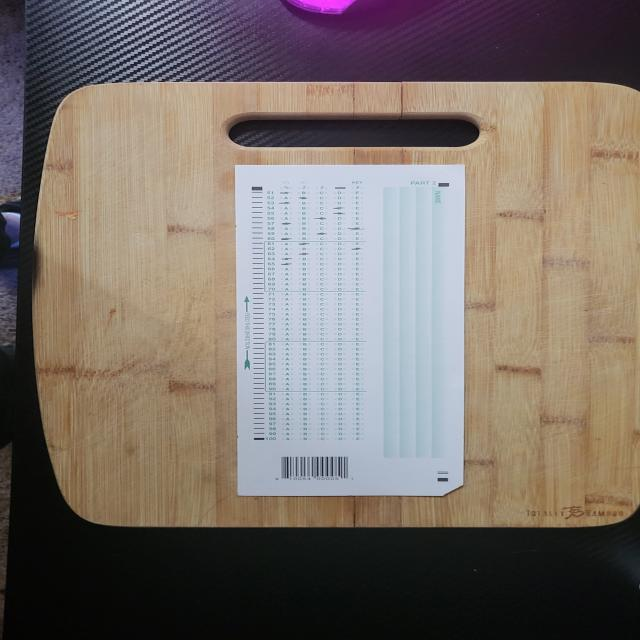scantron_back: (235, 164, 465, 496)
